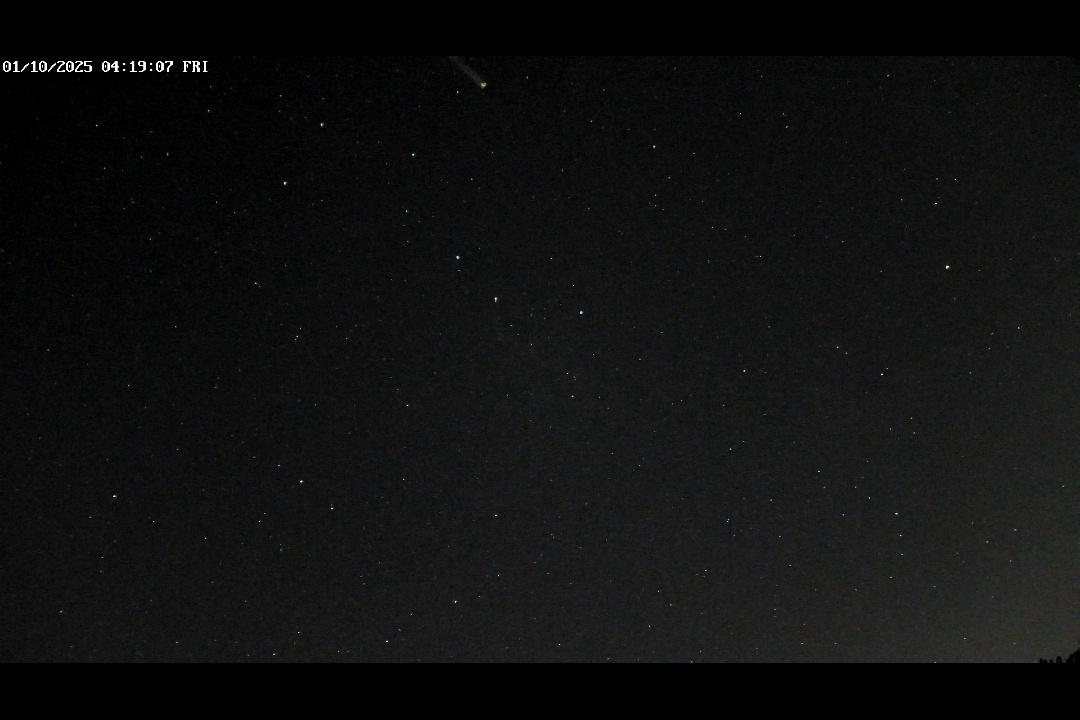Plane: (450, 61, 494, 93)
